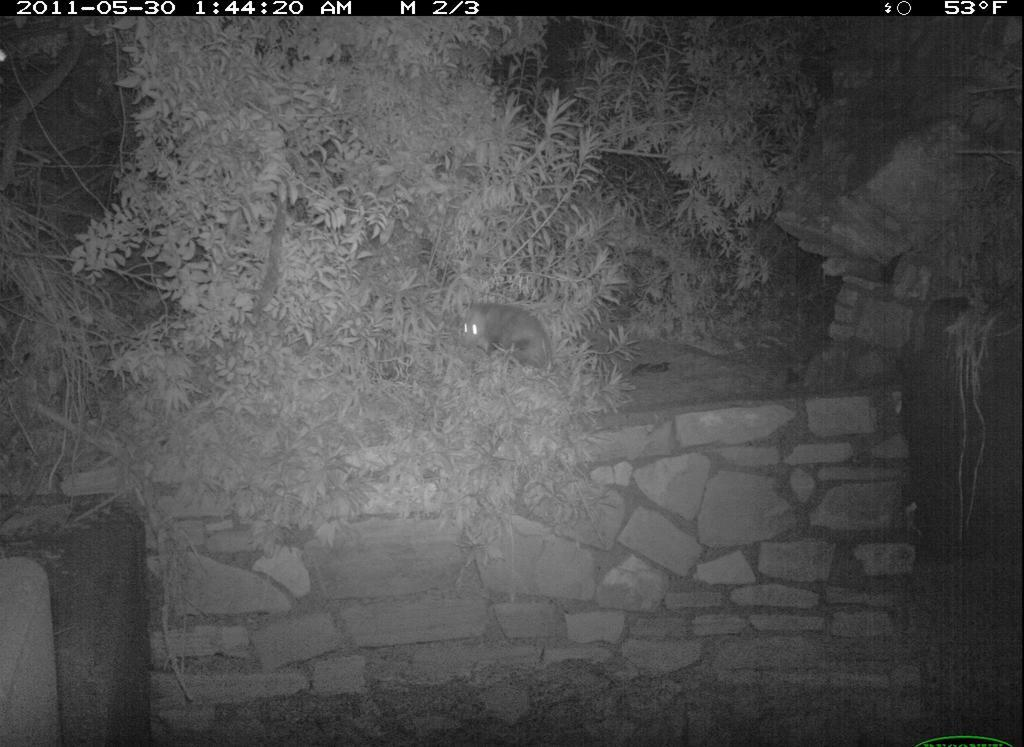opossum: (455, 287, 569, 382)
